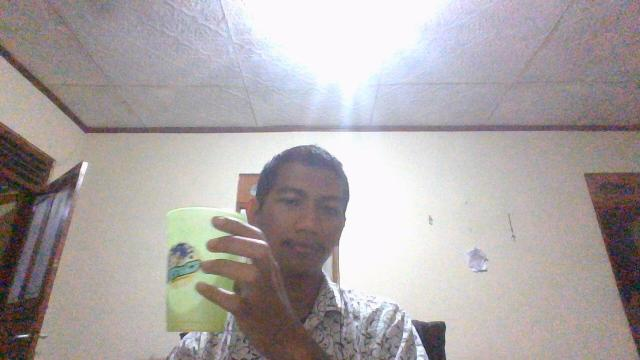botol-hijau: (163, 205, 253, 334)
